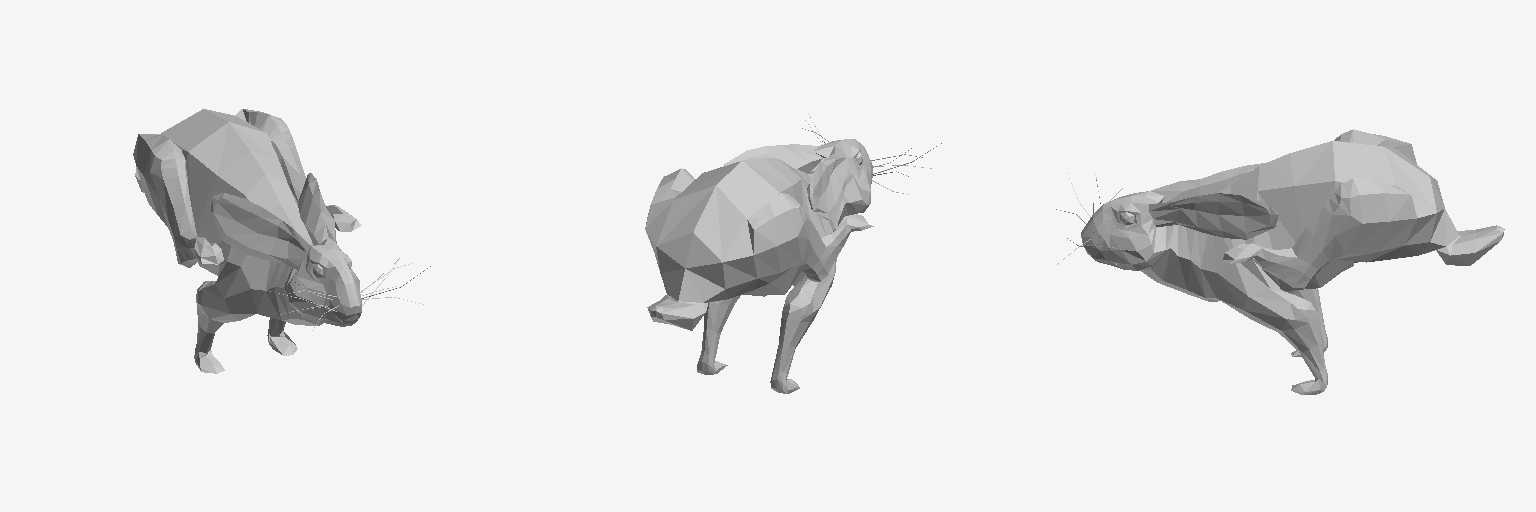
The model's file is rabbit_12.obj.
The picture shows the model from 3 angles: view 1: azimuth 30°, elevation 25°; view 2: azimuth 150°, elevation 25°; view 3: azimuth 270°, elevation 25°; orthographic projection.
Visible parts, largest first — view 1: Rabbit_Cylinder; view 2: Rabbit_Cylinder; view 3: Rabbit_Cylinder.
Part boxes in pixels (x1,y1,x2,y2): Rabbit_Cylinder: (133, 109, 430, 373); Rabbit_Cylinder: (645, 113, 941, 393); Rabbit_Cylinder: (1056, 129, 1504, 394).
Size of the model in its own units: 8.03 by 11.04 by 19.55.